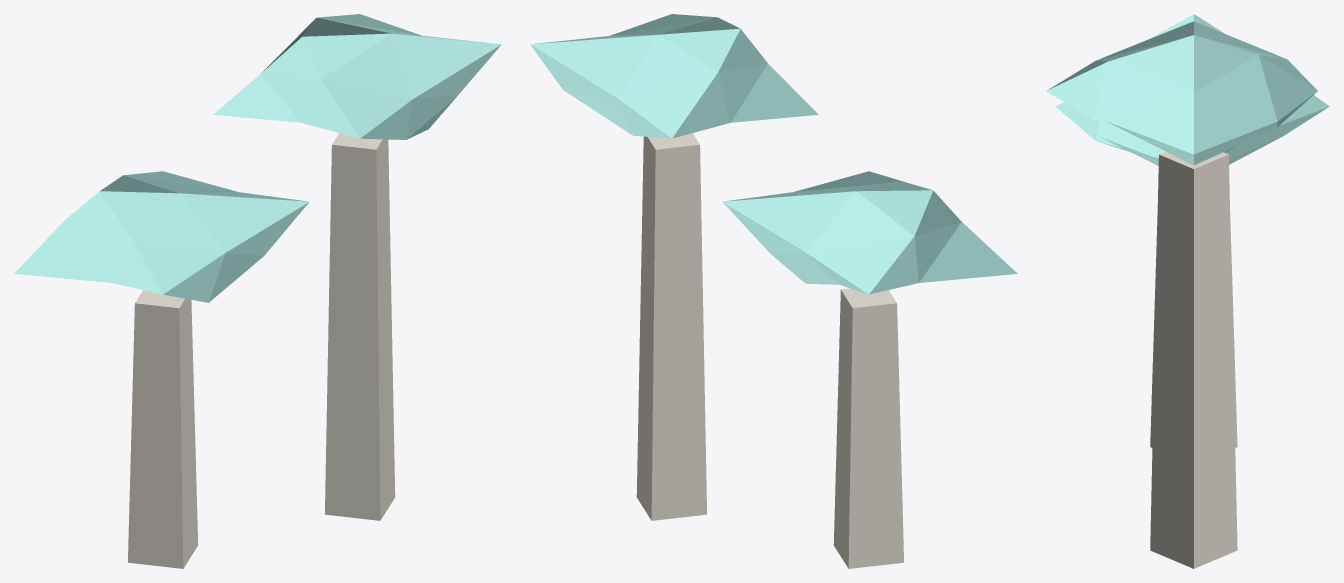
File: glowcap_v15.glb
3 renders of one model, left to right at view 1: azimuth 30°, elevation 25°; view 2: azimuth 150°, elevation 25°; view 3: azimuth 270°, elevation 25°, orthographic. The views are drawn at different scales.
Visible parts, largest first — view 1: lod0; view 2: lod0; view 3: lod0.
Part boxes in pixels (x1,y1,x2,y2): lod0: (14, 14, 501, 568); lod0: (530, 14, 1017, 568); lod0: (1046, 14, 1329, 568).
Size of what is drawn, in the model's own units: 0.3467 by 0.3341 by 0.1624.
